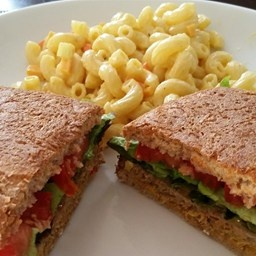background: (0, 1, 102, 102)
